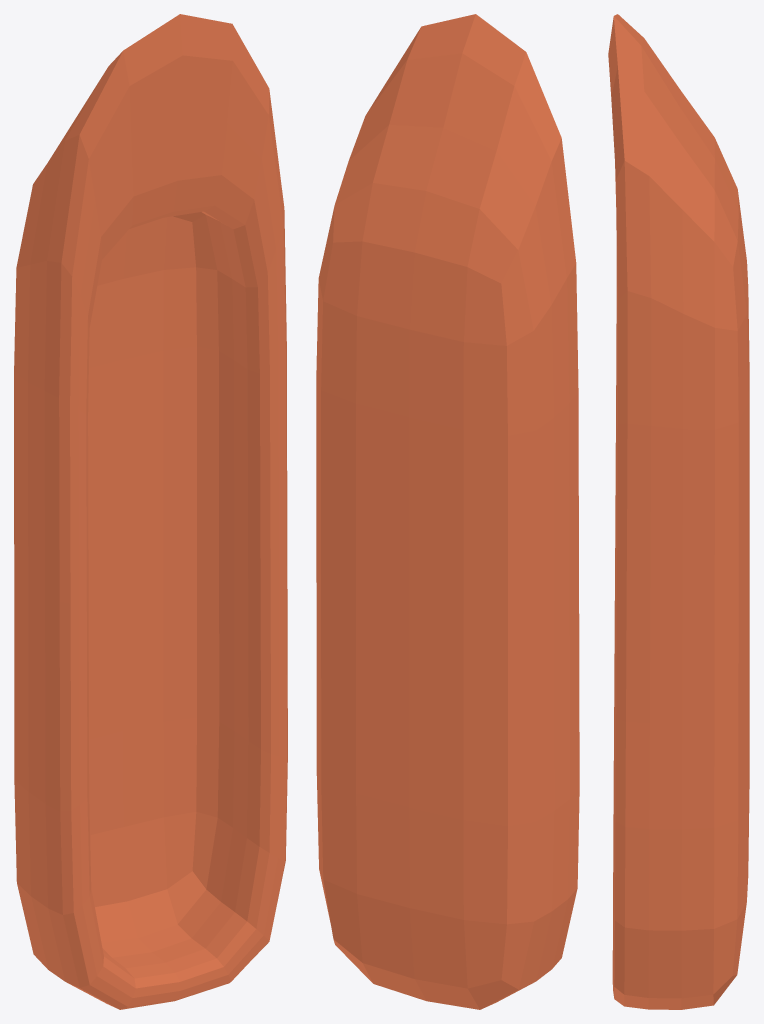
File: boat.gltf
3 renders of one model, left to right at view 1: azimuth 30°, elevation 25°; view 2: azimuth 150°, elevation 25°; view 3: azimuth 270°, elevation 25°, orthographic. The views are drawn at different scales.
Visible parts, largest first — view 1: Boat; view 2: Boat; view 3: Boat.
Boxes of the visible parts, x1=… form: Boat: x1=14, y1=14, x2=287, y2=1009; Boat: x1=316, y1=14, x2=579, y2=1009; Boat: x1=608, y1=14, x2=749, y2=1009.
Size of the model in its own units: 0.25 by 1.02 by 0.1343.
